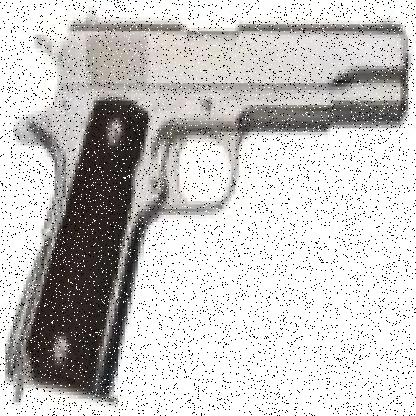pistol: (10, 7, 403, 409)
